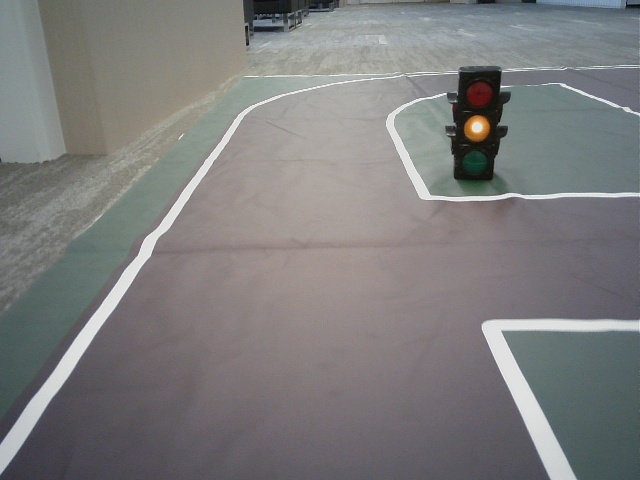yellow: (458, 71, 494, 179)
